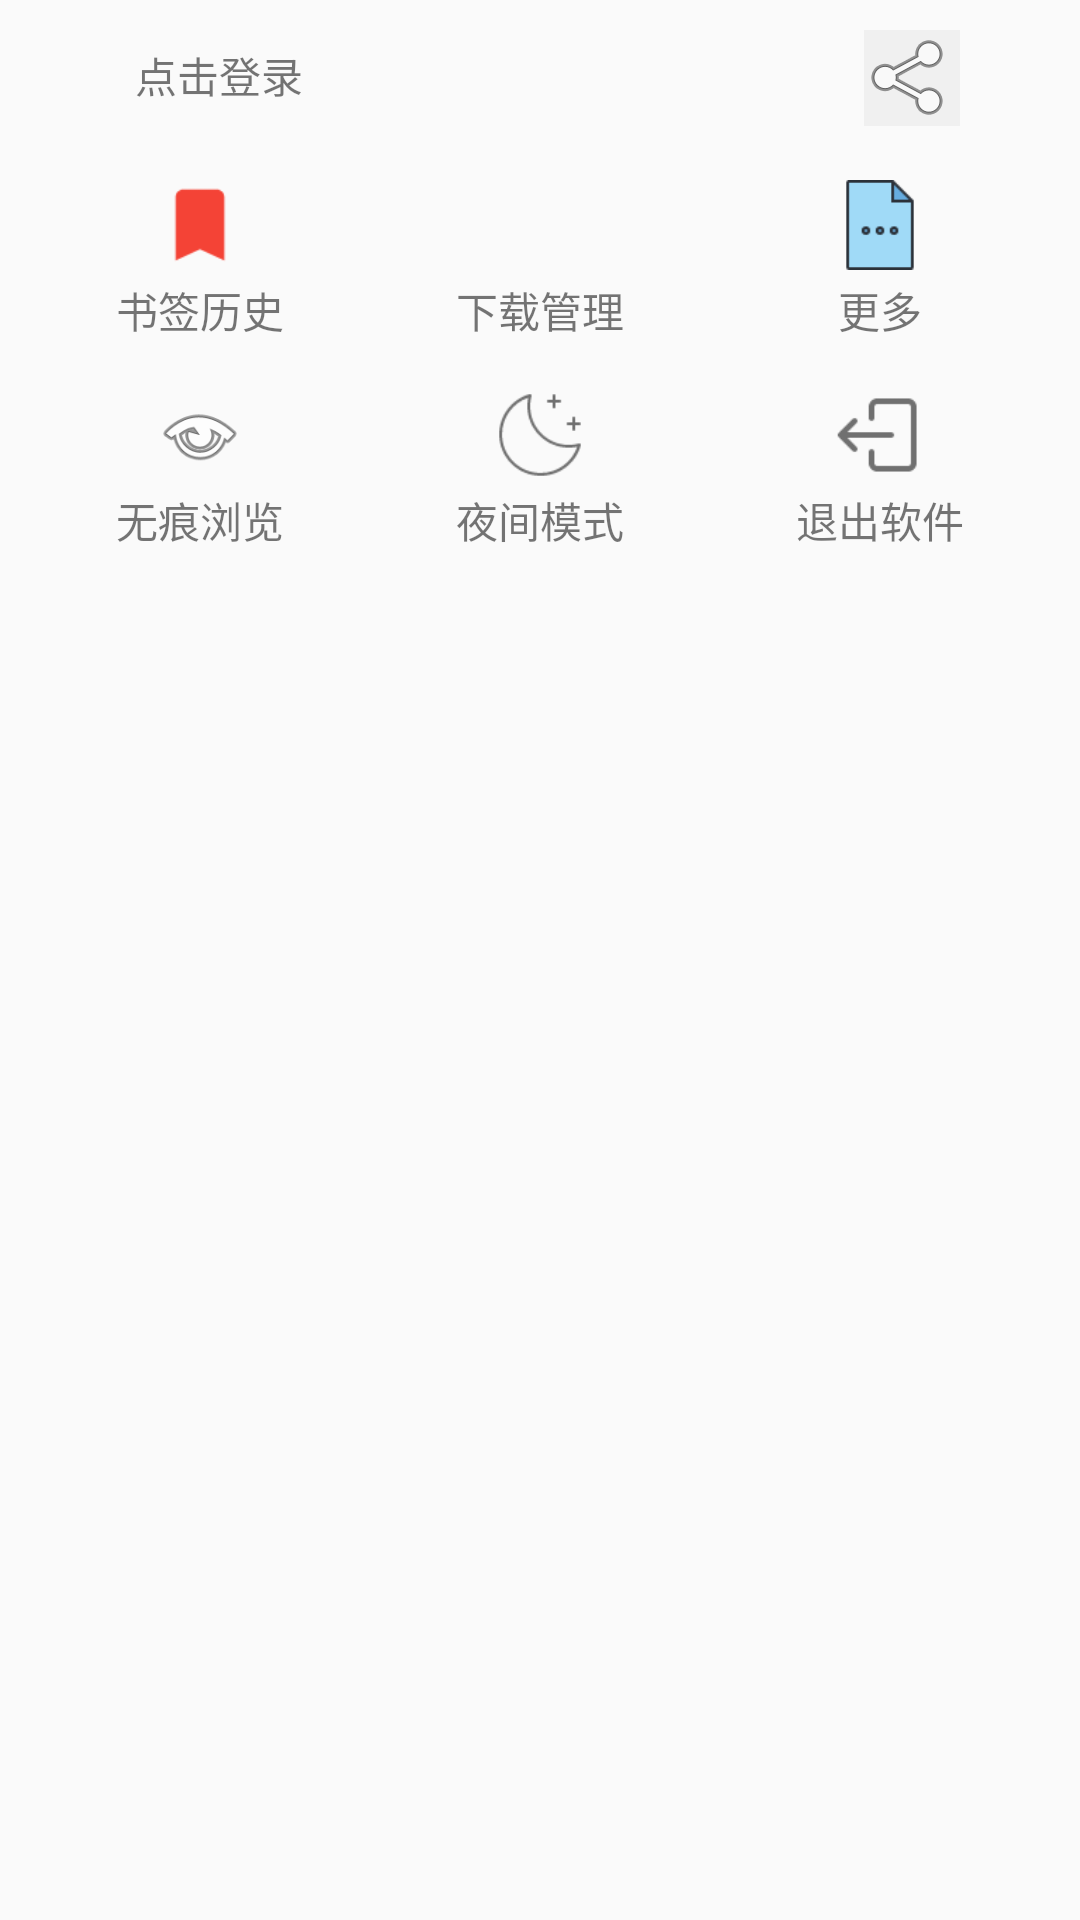

Icons on this 1080px x 1920px Android screen, each with its box as (x1, y1, x2, y2):
share: (864, 30, 960, 126)
